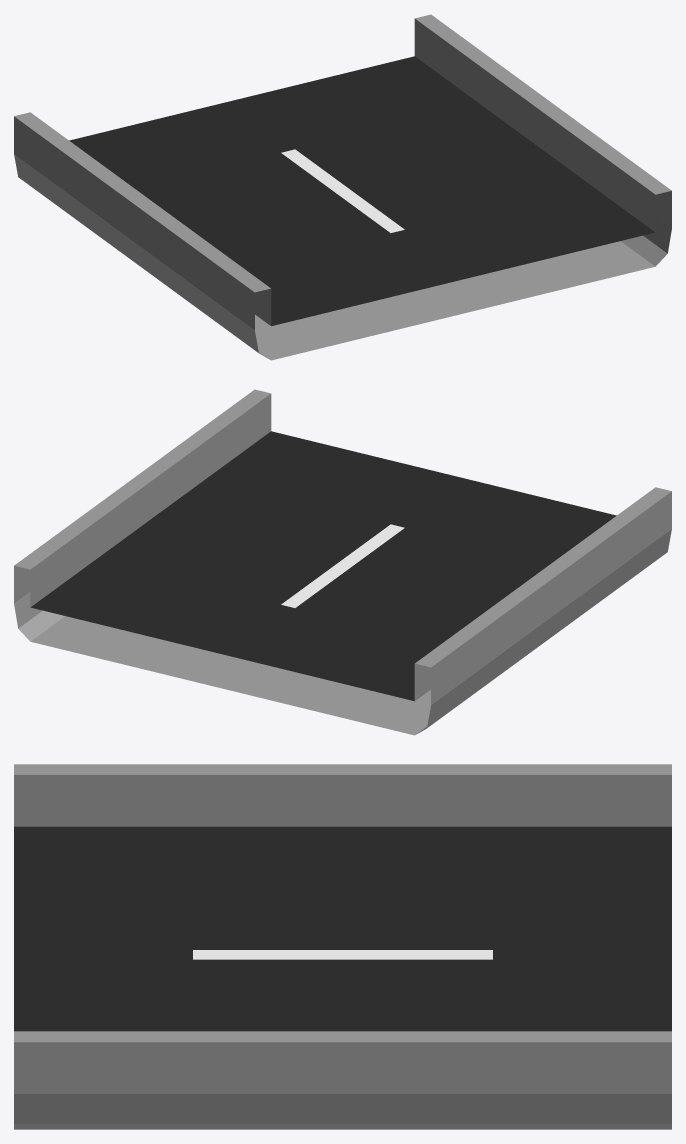
The picture shows the model from 3 angles, top to bottom: view 1: azimuth 30°, elevation 25°; view 2: azimuth 150°, elevation 25°; view 3: azimuth 270°, elevation 25°; orthographic projection. The views are drawn at different scales.
Parts seen in each view (by area): view 1: 1x1s-col; view 2: 1x1s-col; view 3: 1x1s-col.
Part boxes in pixels (x1,y1,x2,y2): 1x1s-col: (14,14,671,360); 1x1s-col: (14,389,671,735); 1x1s-col: (14,764,671,1129).
Bounding box in the file's own units: 20 × 3.3 × 20.
Materials: 1 (1 with a texture image).
